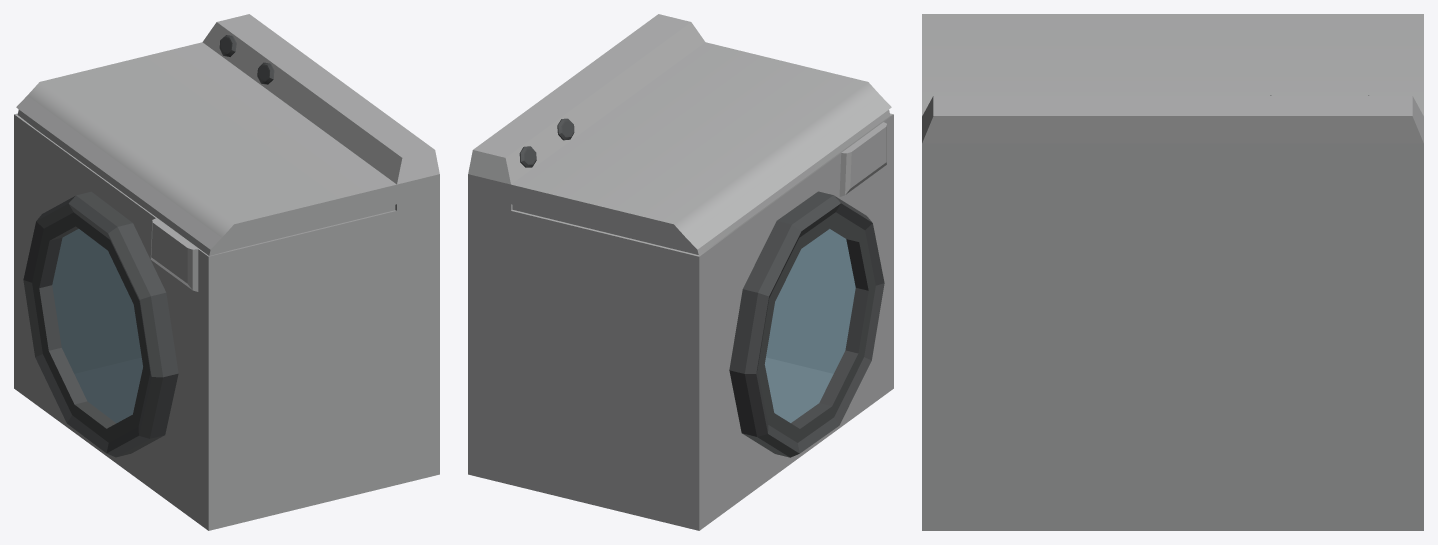
Rendered from WashingMachine.fbx.
The picture shows the model from 3 angles, left to right: view 1: azimuth 30°, elevation 25°; view 2: azimuth 150°, elevation 25°; view 3: azimuth 270°, elevation 25°; orthographic projection. The views are drawn at different scales.
Parts seen in each view (by area): view 1: pCube42; view 2: pCube42; view 3: pCube42.
Boxes of the visible parts, bbox=[...] form: pCube42: bbox=[14, 14, 439, 530]; pCube42: bbox=[468, 14, 893, 530]; pCube42: bbox=[922, 14, 1423, 530].
Size of the model in its own units: 41.59 by 50.09 by 54.93.
